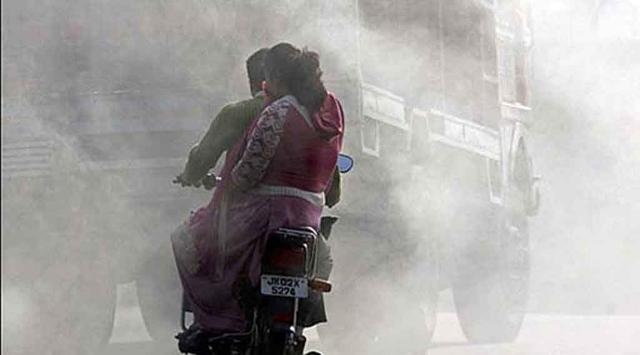licensePlate: (258, 271, 309, 297)
motorcycle: (190, 38, 349, 355)
withoutHelmet: (257, 41, 313, 98)
